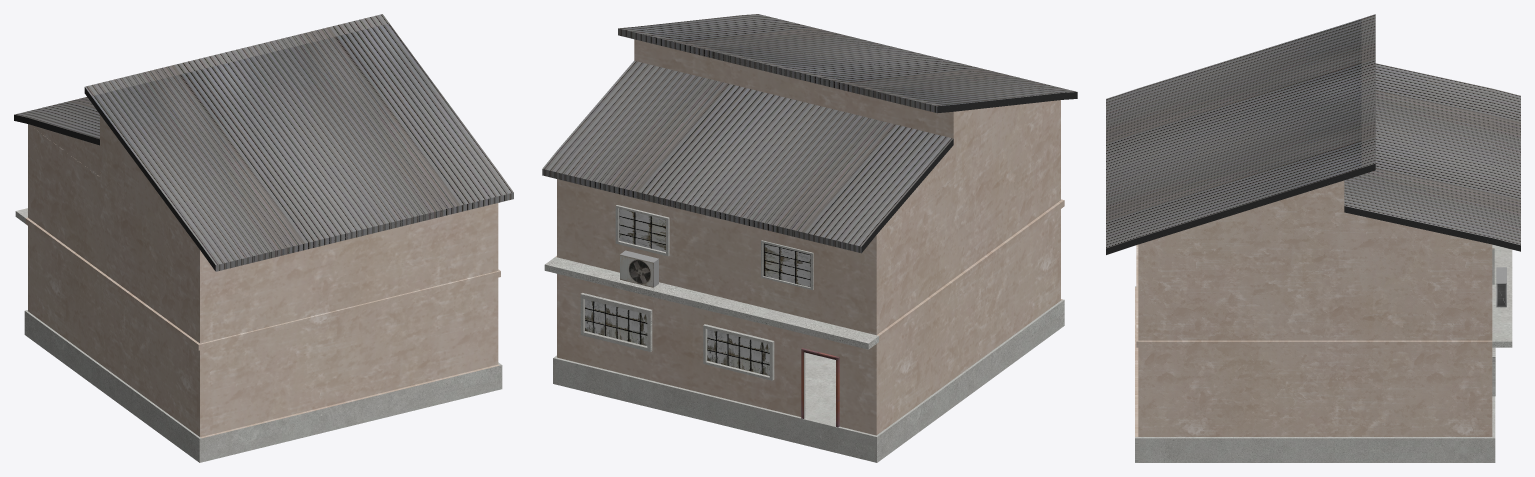
Rendered from 10x10_house_dynamic.glb.
The picture shows the model from 3 angles, left to right: view 1: azimuth 30°, elevation 25°; view 2: azimuth 150°, elevation 25°; view 3: azimuth 270°, elevation 25°; orthographic projection. The views are drawn at different scales.
Visible parts, largest first — view 1: 10x10_dynamichouse; view 2: 10x10_dynamichouse; view 3: 10x10_dynamichouse.
Part boxes in pixels (x1=…): 10x10_dynamichouse: x1=14, y1=14, x2=513, y2=462; 10x10_dynamichouse: x1=542, y1=14, x2=1077, y2=462; 10x10_dynamichouse: x1=1106, y1=14, x2=1520, y2=462.
Size of the model in its own units: 10.16 by 9.3 by 11.72.
12 materials, 11 textured.
